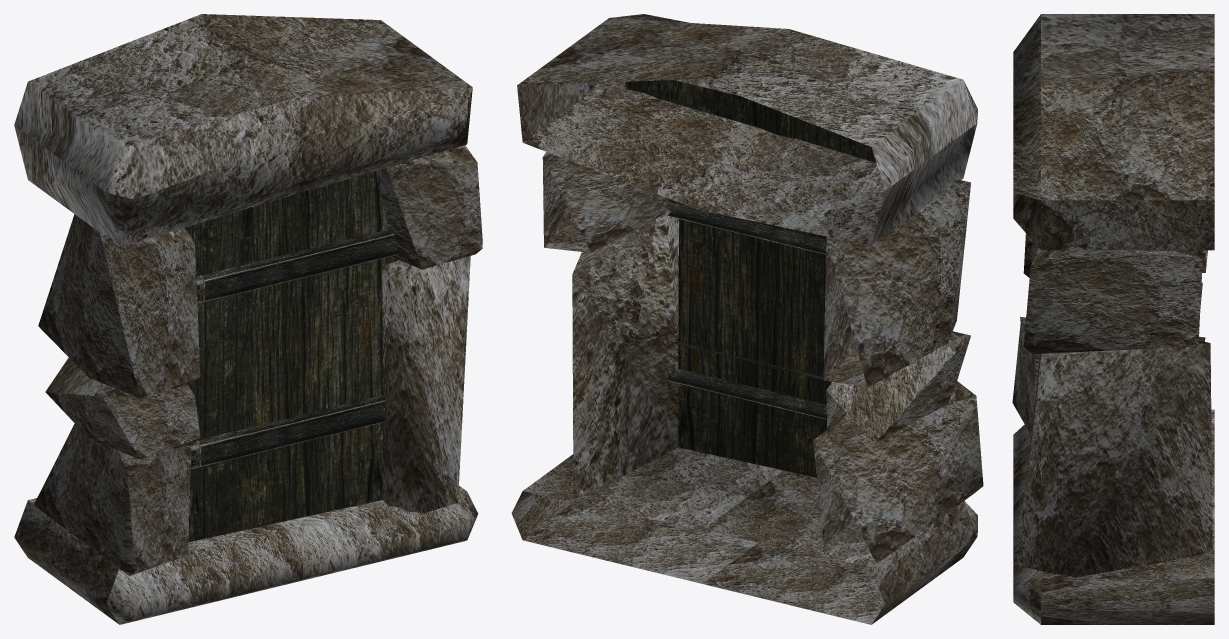
The model's file is ex_nord_win_01.obj.
3 views of the same model, side by side, from view 1: azimuth 30°, elevation 25°; view 2: azimuth 150°, elevation 25°; view 3: azimuth 270°, elevation 25° (orthographic). The views are drawn at different scales.
Parts seen in each view (by area): view 1: nifid_11-matrix_Tri_Ex_nord_win_01_2-lib, nifid_1-matrix_Tri_Ex_nord_win_01_0-lib, nifid_6-matrix_Tri_Ex_nord_win_01_1-lib; view 2: nifid_11-matrix_Tri_Ex_nord_win_01_2-lib, nifid_1-matrix_Tri_Ex_nord_win_01_0-lib, nifid_6-matrix_Tri_Ex_nord_win_01_1-lib; view 3: nifid_11-matrix_Tri_Ex_nord_win_01_2-lib.
Boxes of the visible parts, x1,y1,x2,y2 form: nifid_11-matrix_Tri_Ex_nord_win_01_2-lib: (14,14,482,624); nifid_1-matrix_Tri_Ex_nord_win_01_0-lib: (185,169,398,542); nifid_6-matrix_Tri_Ex_nord_win_01_1-lib: (197,229,398,466); nifid_11-matrix_Tri_Ex_nord_win_01_2-lib: (511,14,983,624); nifid_1-matrix_Tri_Ex_nord_win_01_0-lib: (625,80,876,477); nifid_6-matrix_Tri_Ex_nord_win_01_1-lib: (666,201,831,419); nifid_11-matrix_Tri_Ex_nord_win_01_2-lib: (1012,14,1214,624).
Bounding box in the file's own units: 1.91 × 2.45 × 0.9456.
